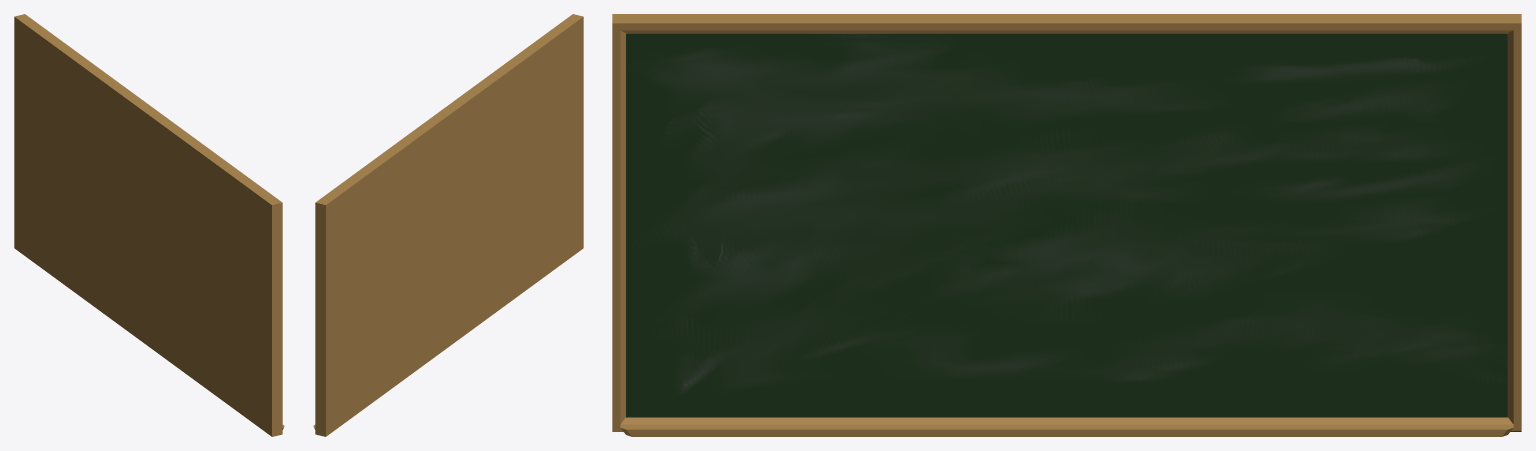
Rendered from Blackboard.dae.
The picture shows the model from 3 angles, left to right: view 1: azimuth 30°, elevation 25°; view 2: azimuth 150°, elevation 25°; view 3: azimuth 270°, elevation 25°; orthographic projection. The views are drawn at different scales.
Visible parts, largest first — view 1: Cube; view 2: Cube; view 3: Cube.
Part boxes in pixels (x1,y1,x2,y2): Cube: [14, 14, 284, 436]; Cube: [313, 14, 583, 436]; Cube: [612, 14, 1521, 436].
Size of the model in its own units: 0.2782 by 7.48 by 3.71.
Materials: 1 (1 with a texture image).
